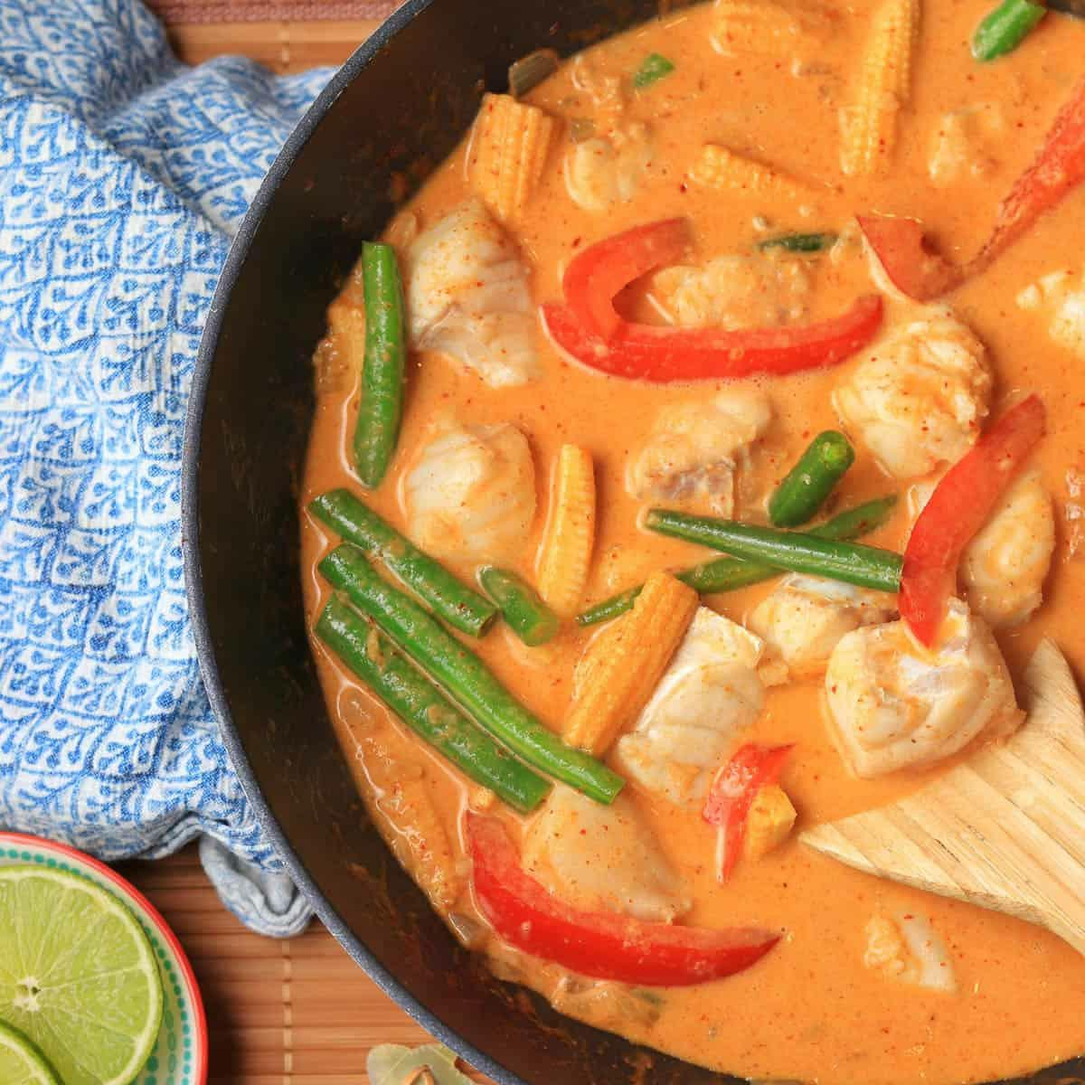FishCurry: (295, 0, 1085, 1085)
